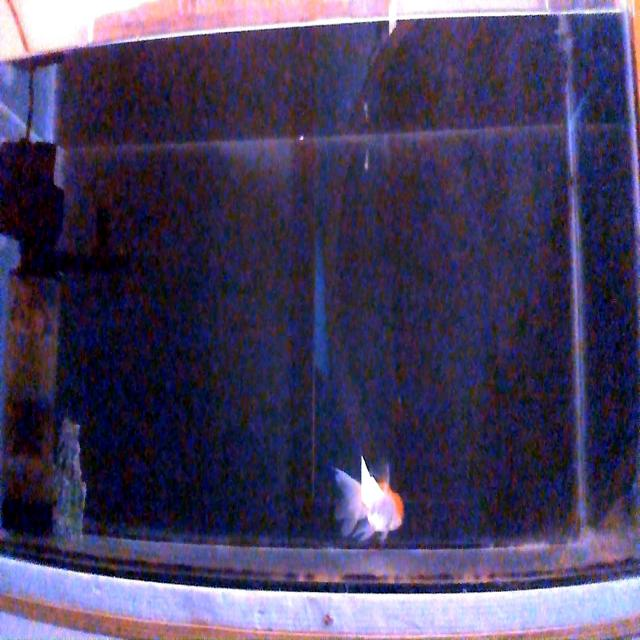fish: (331, 453, 405, 546)
